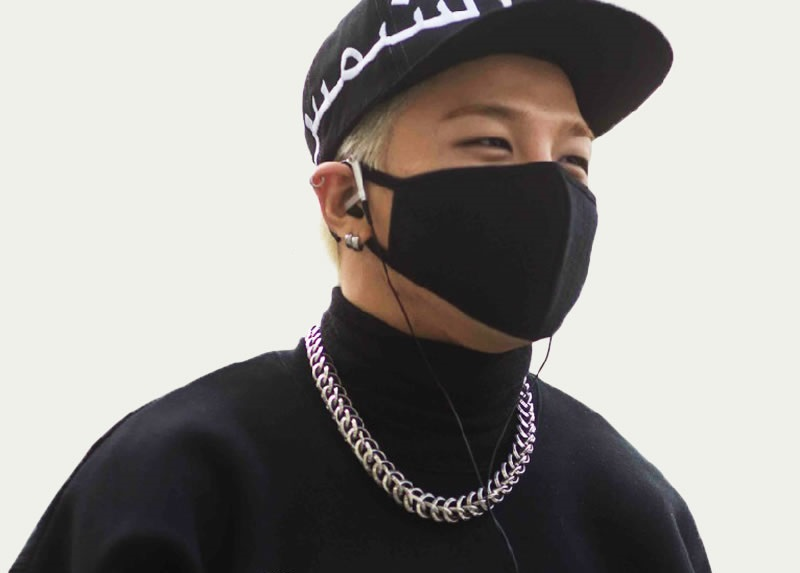face_mask: (378, 83, 599, 346)
